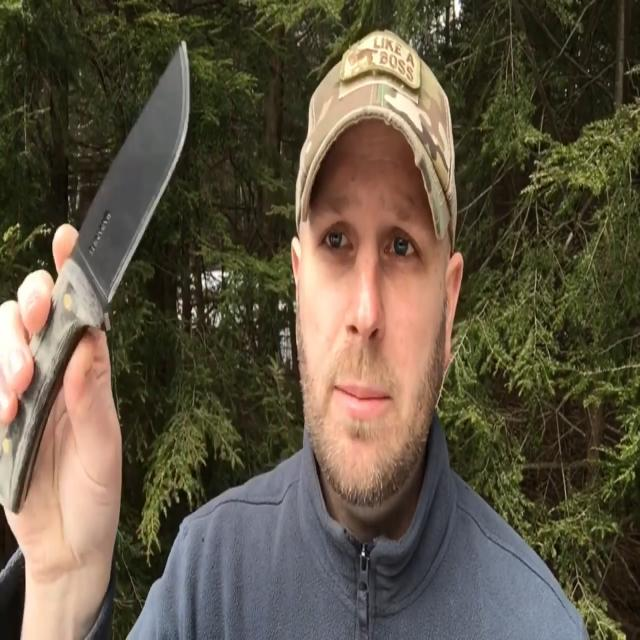knife: (1, 32, 193, 520)
